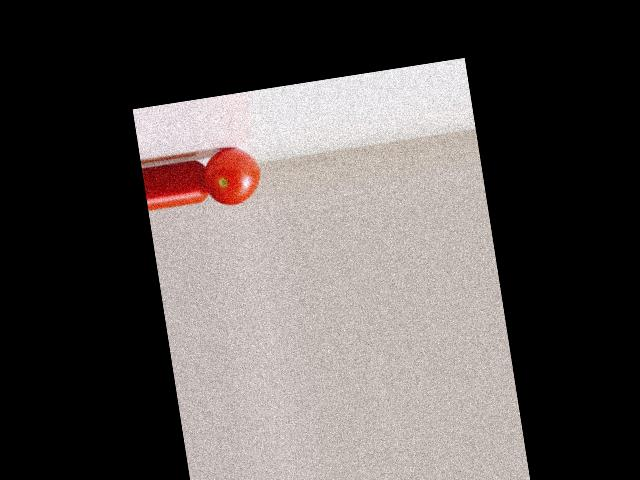tomato: (200, 144, 264, 208)
